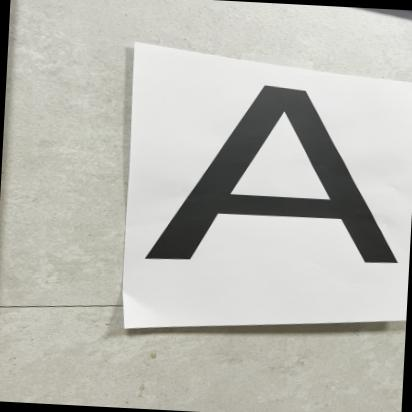seat: (123, 68, 412, 289)
